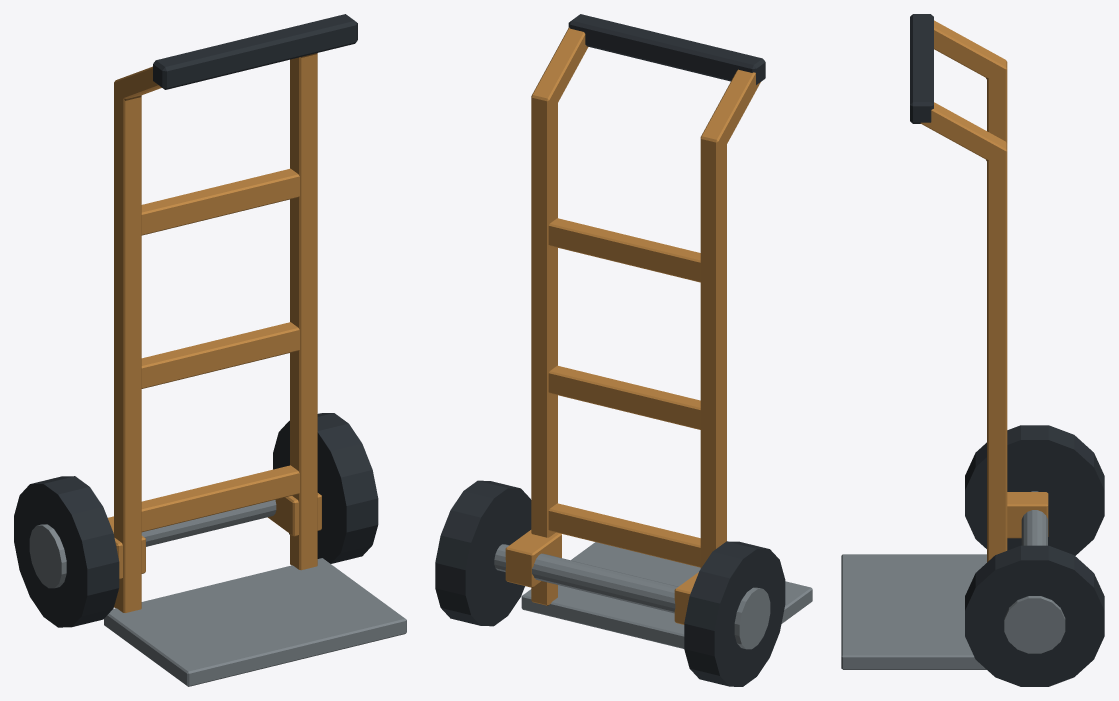
3 views of the same model, side by side, from view 1: azimuth 30°, elevation 25°; view 2: azimuth 150°, elevation 25°; view 3: azimuth 270°, elevation 25° (orthographic). The views are drawn at different scales.
Visible parts, largest first — view 1: Grounded parcel toe plate, Continuous bent upright, Continuous bent upright.001, Flat tread wheel, Flat tread wheel.001, Single upper hand grip, Parcel support cross rail, Parcel support cross rail.002, Parcel support cross rail.001, Static transverse axle, Restrained wheel hub, Static axle support bracket.001; view 2: Continuous bent upright.001, Continuous bent upright, Flat tread wheel.001, Flat tread wheel, Grounded parcel toe plate, Single upper hand grip, Parcel support cross rail, Parcel support cross rail.002, Parcel support cross rail.001, Static transverse axle, Static axle support bracket.001, Restrained wheel hub (+1 smaller); view 3: Grounded parcel toe plate, Flat tread wheel.001, Flat tread wheel, Continuous bent upright.001, Continuous bent upright, Restrained wheel hub.001, Single upper hand grip, Static axle support bracket, Static transverse axle.
Boxes of the visible parts, x1,y1,x2,y2 form: Grounded parcel toe plate: (104, 558, 406, 686); Continuous bent upright: (114, 66, 161, 612); Continuous bent upright.001: (290, 53, 317, 570); Flat tread wheel: (14, 476, 119, 627); Flat tread wheel.001: (273, 413, 378, 563); Single upper hand grip: (153, 14, 357, 89); Parcel support cross rail: (141, 465, 299, 532); Parcel support cross rail.002: (141, 168, 299, 235); Parcel support cross rail.001: (141, 322, 299, 388); Static transverse axle: (141, 500, 276, 546); Restrained wheel hub: (29, 524, 66, 588); Static axle support bracket.001: (268, 493, 321, 536); Continuous bent upright.001: (531, 27, 588, 605); Continuous bent upright: (700, 69, 760, 568); Flat tread wheel.001: (435, 480, 531, 626); Flat tread wheel: (684, 541, 785, 686); Grounded parcel toe plate: (521, 542, 812, 648); Single upper hand grip: (568, 14, 765, 84); Parcel support cross rail: (548, 503, 700, 567); Parcel support cross rail.002: (548, 218, 700, 282); Parcel support cross rail.001: (548, 365, 700, 429); Static transverse axle: (494, 544, 678, 613); Static axle support bracket.001: (505, 530, 561, 587); Restrained wheel hub: (734, 587, 770, 649); Grounded parcel toe plate: (841, 554, 986, 669); Flat tread wheel.001: (965, 545, 1104, 686); Flat tread wheel: (965, 425, 1104, 555); Continuous bent upright.001: (920, 102, 1007, 562); Continuous bent upright: (934, 20, 1007, 143); Restrained wheel hub.001: (1004, 596, 1065, 653); Single upper hand grip: (910, 14, 933, 123); Static axle support bracket: (1007, 492, 1048, 538); Static transverse axle: (1021, 491, 1047, 545).
Size of the model in its own units: 0.616 by 1.15 by 0.49.
